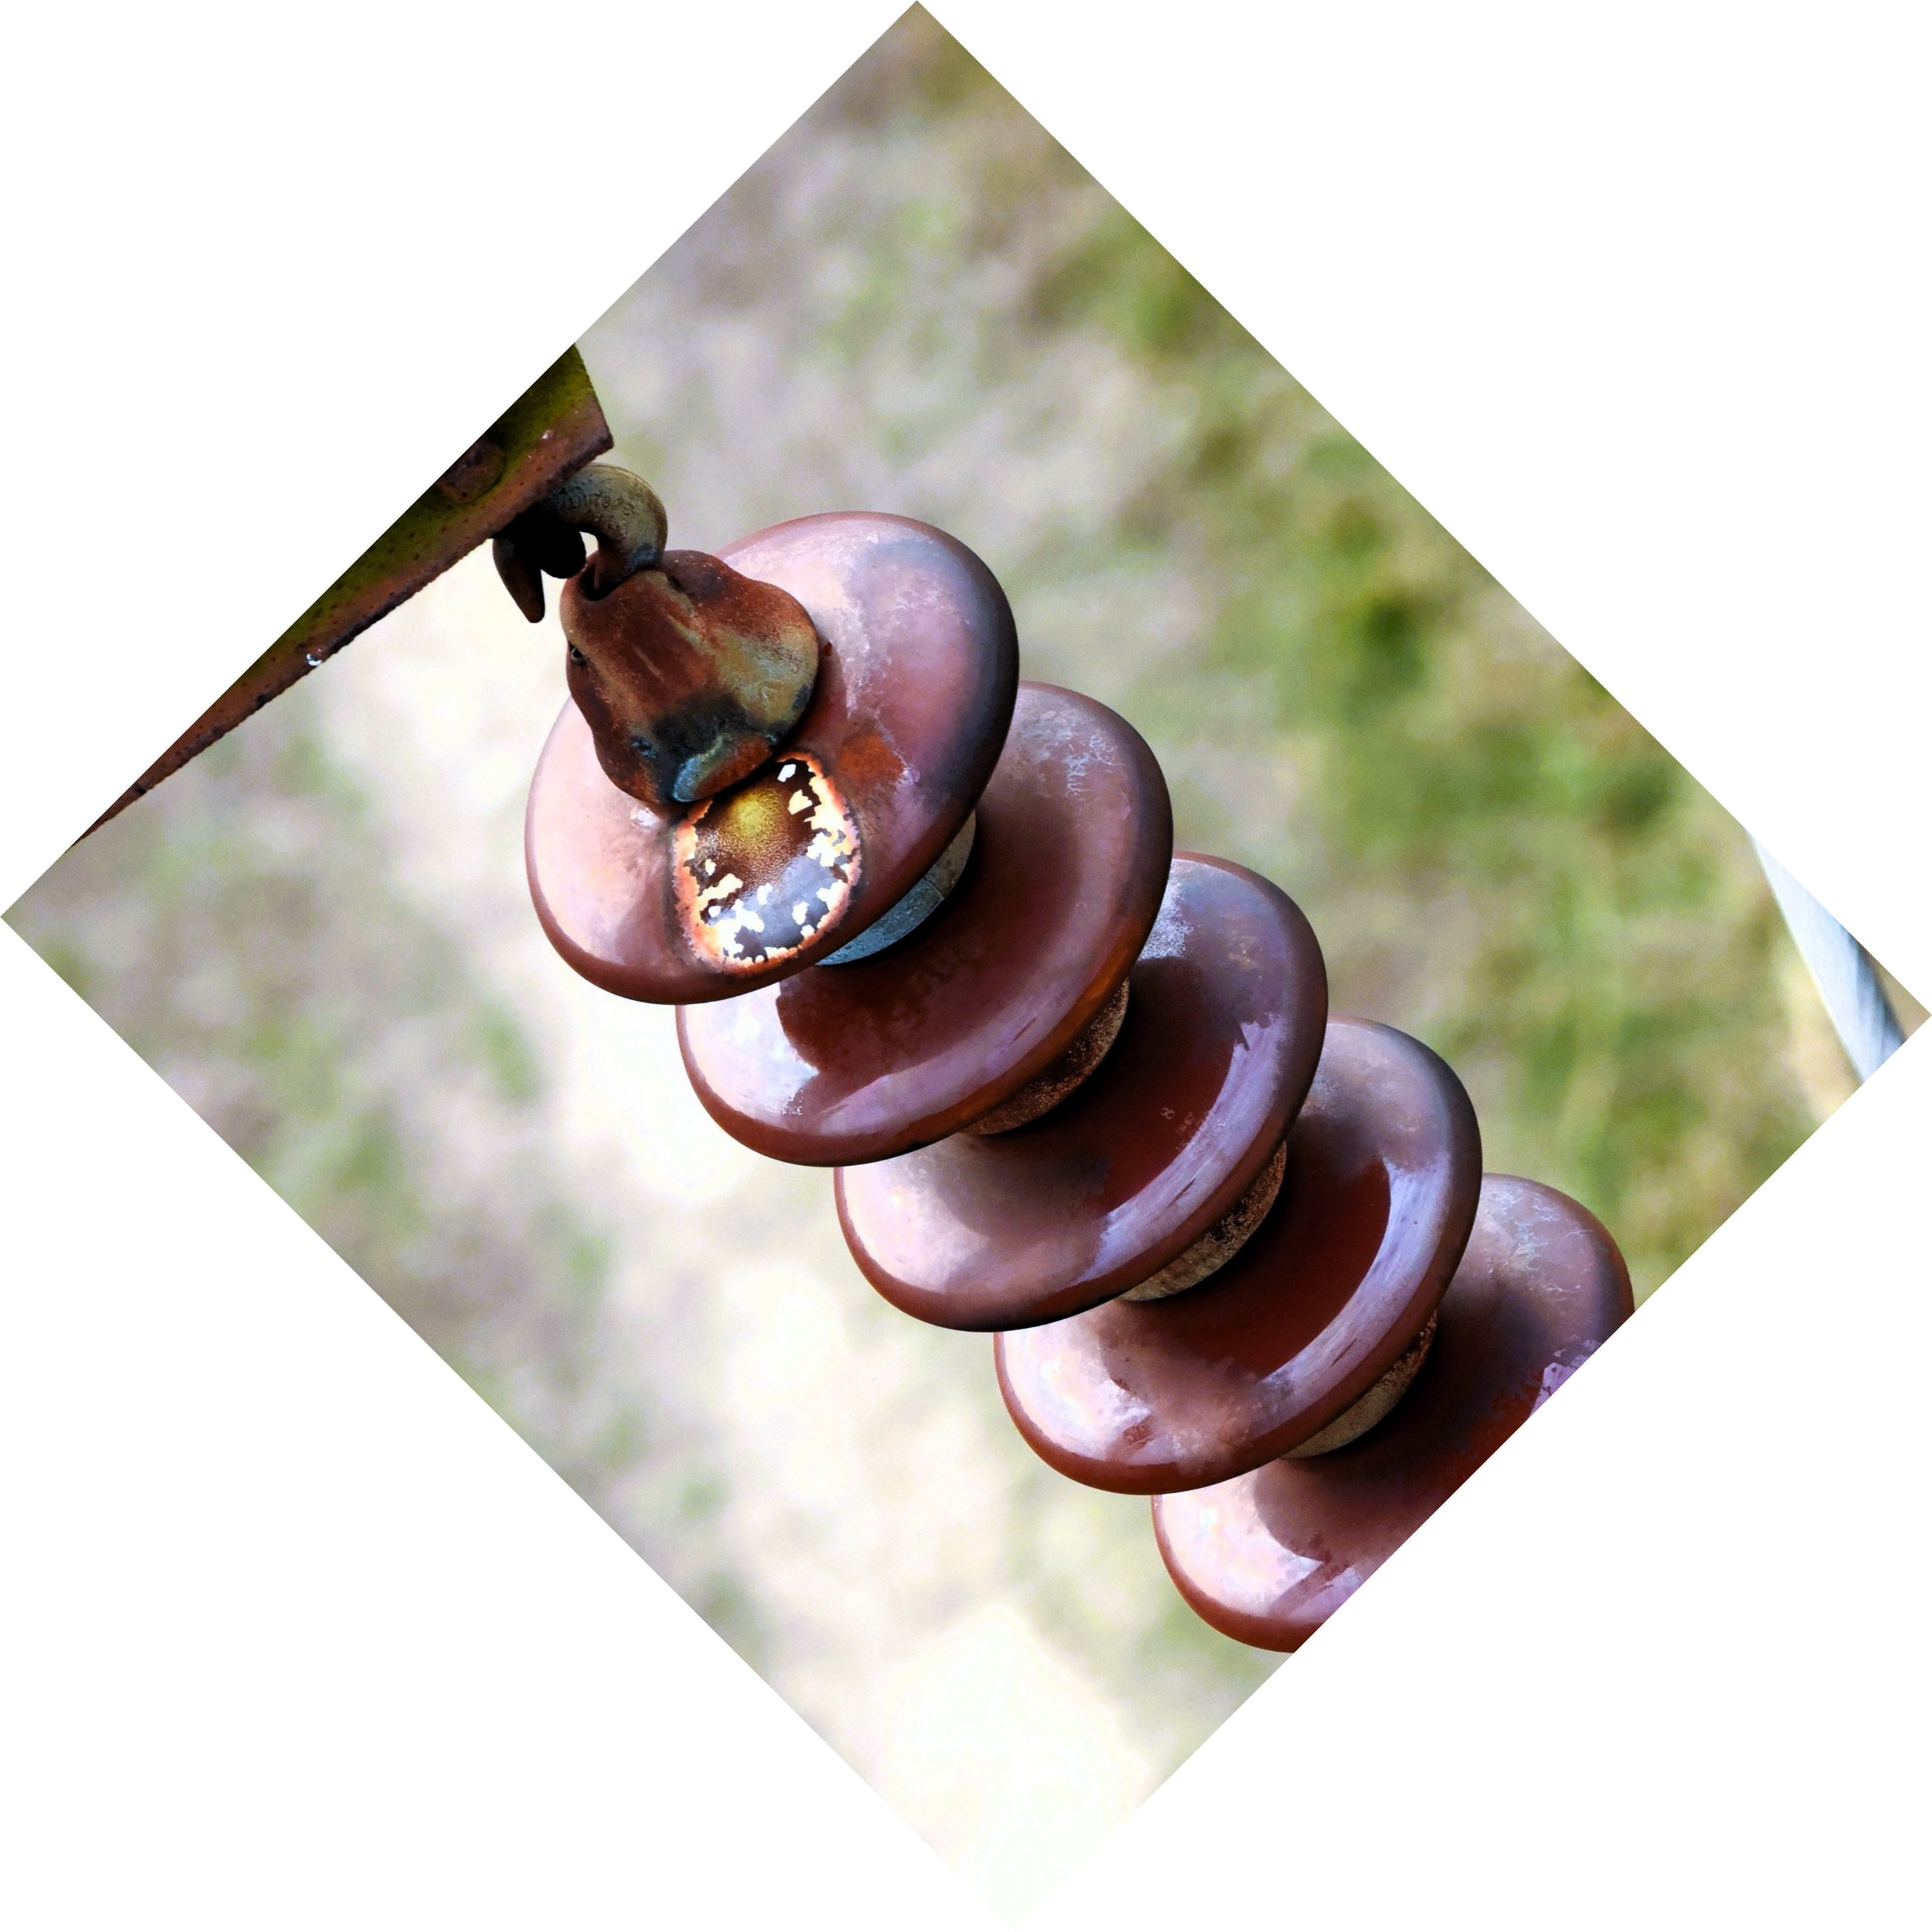Insulator flashover: (504, 487, 1028, 1012)
